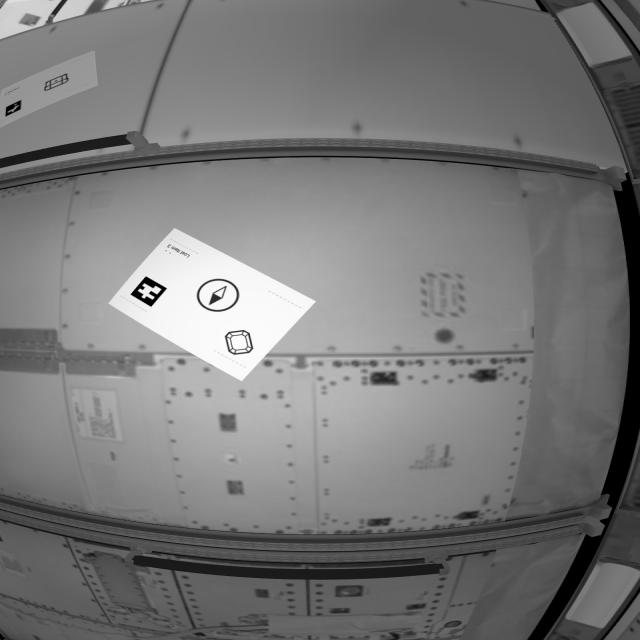compass: (193, 279, 245, 316)
emerald: (224, 326, 261, 359)
treasure_box: (41, 76, 77, 91)
